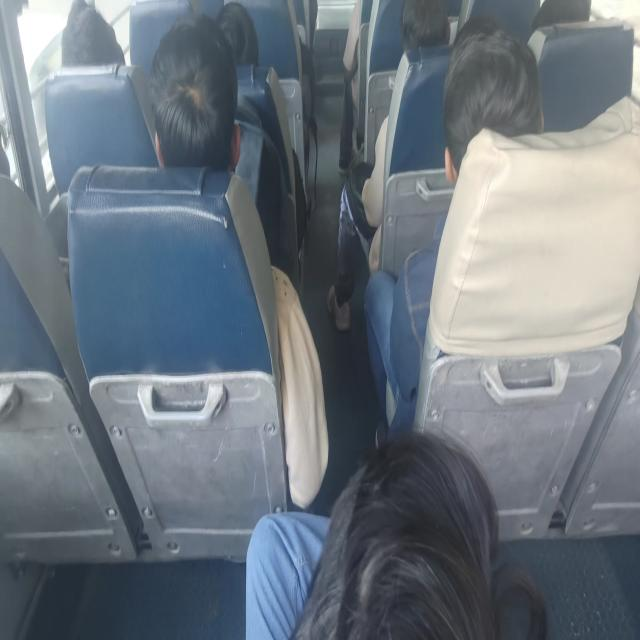person: (283, 429, 543, 640), (448, 32, 536, 186), (153, 44, 231, 183), (59, 0, 121, 71), (212, 0, 259, 65), (402, 0, 457, 55), (540, 0, 594, 41)
